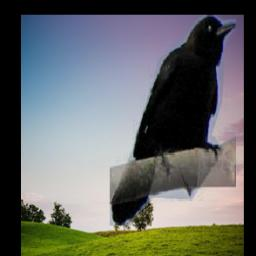Crow: (111, 15, 237, 226)
